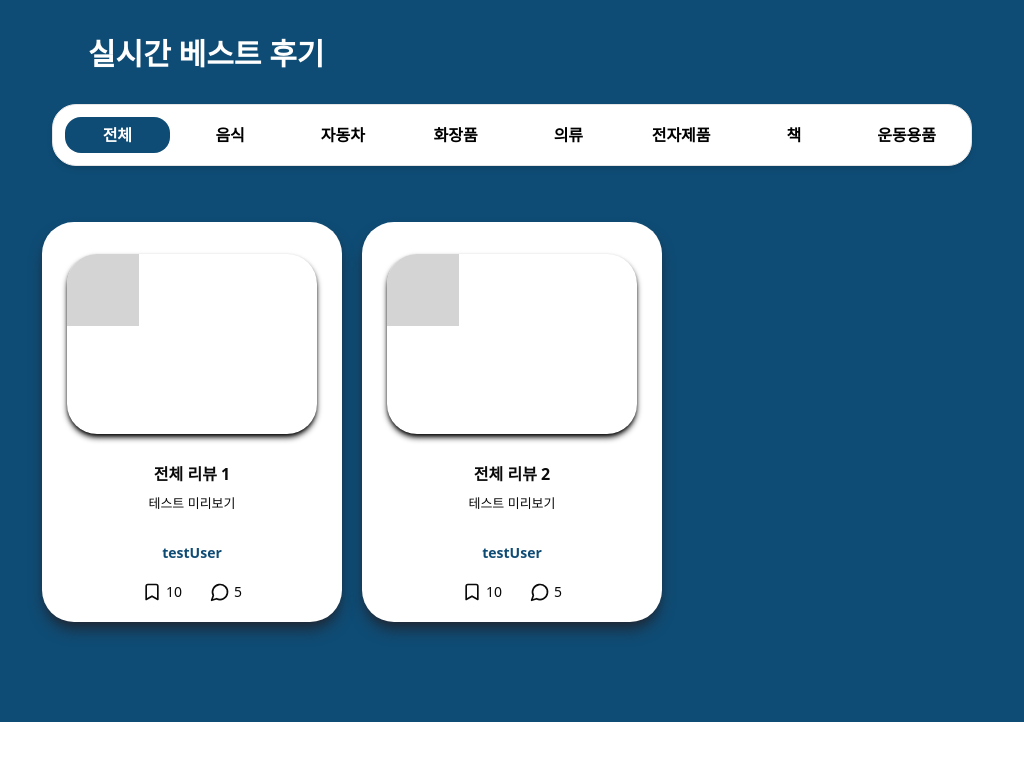
Test case: src/features/reviews/best/ui/BestReviews.tsx › 통합 테스트 › 음식 카테고리 클릭 후 화장품 카테고리를 클릭하면 음식 리뷰 1개와 화장품 리뷰 3개를 표시한다.
Click the button with aria-label "카테고리: 음식": (230, 135) [178,117,283,153]
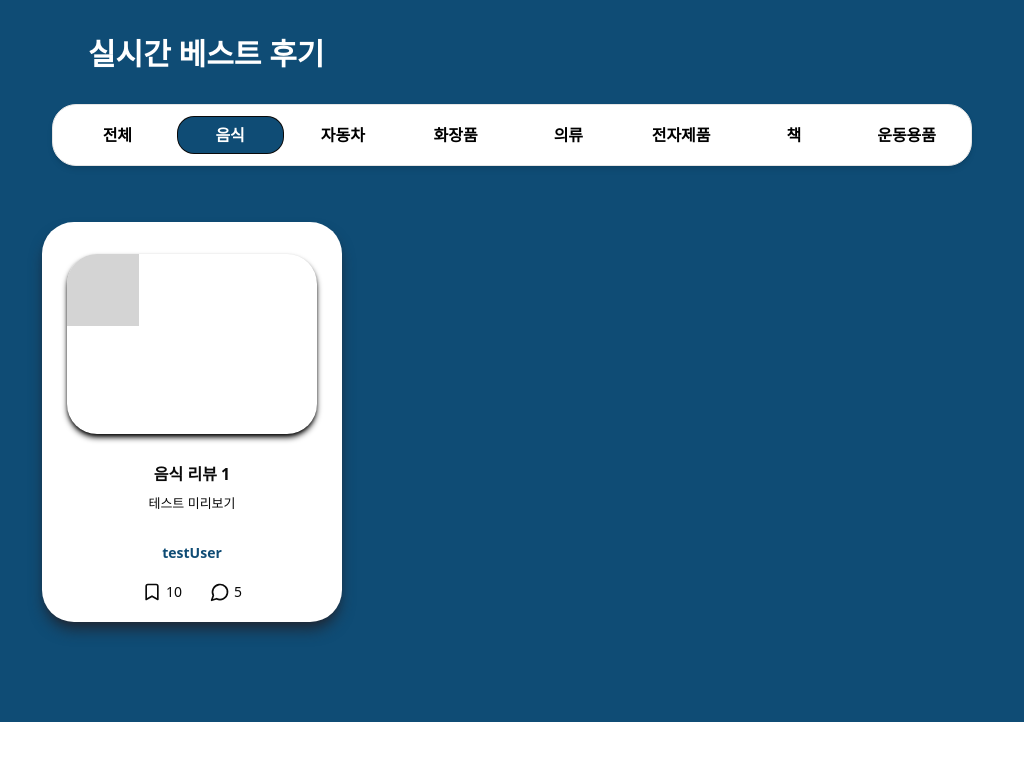
expect the heading "음식 리뷰 1" is shown: met, box [154,463,230,485]
Click the button with aria-label "카테고리: 화장품": (456, 135) [403,117,508,153]
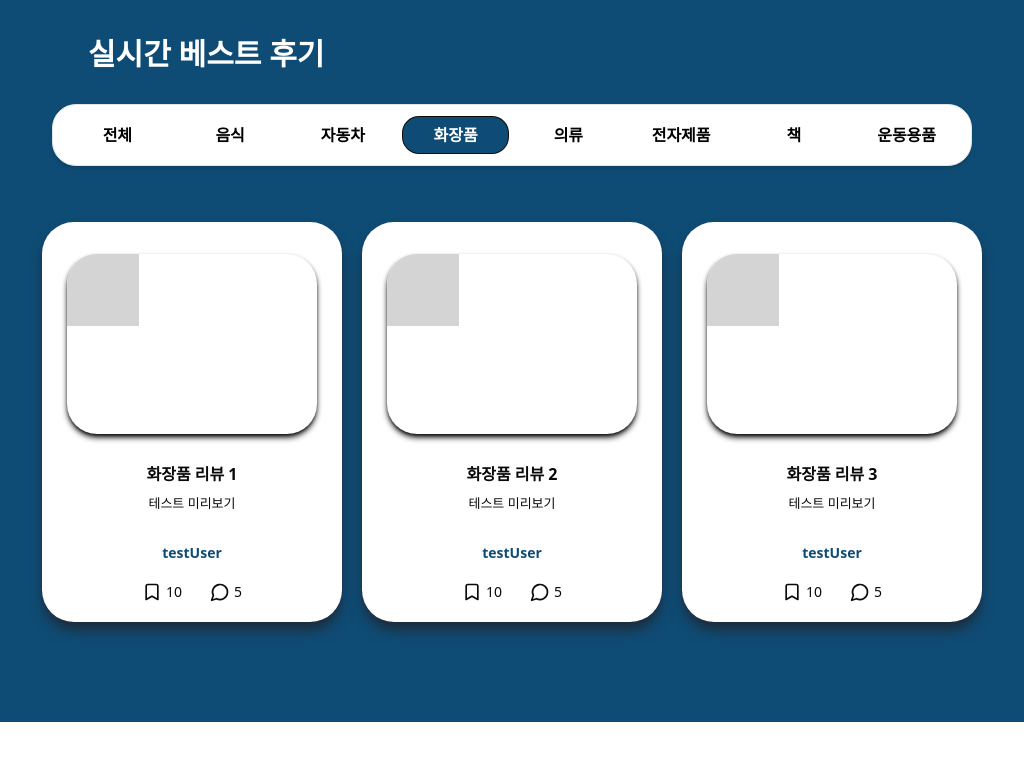
expect the heading "화장품 리뷰 1" is shown: met, box [146,463,238,485]
expect the heading "화장품 리뷰 3" is shown: met, box [786,463,878,485]
